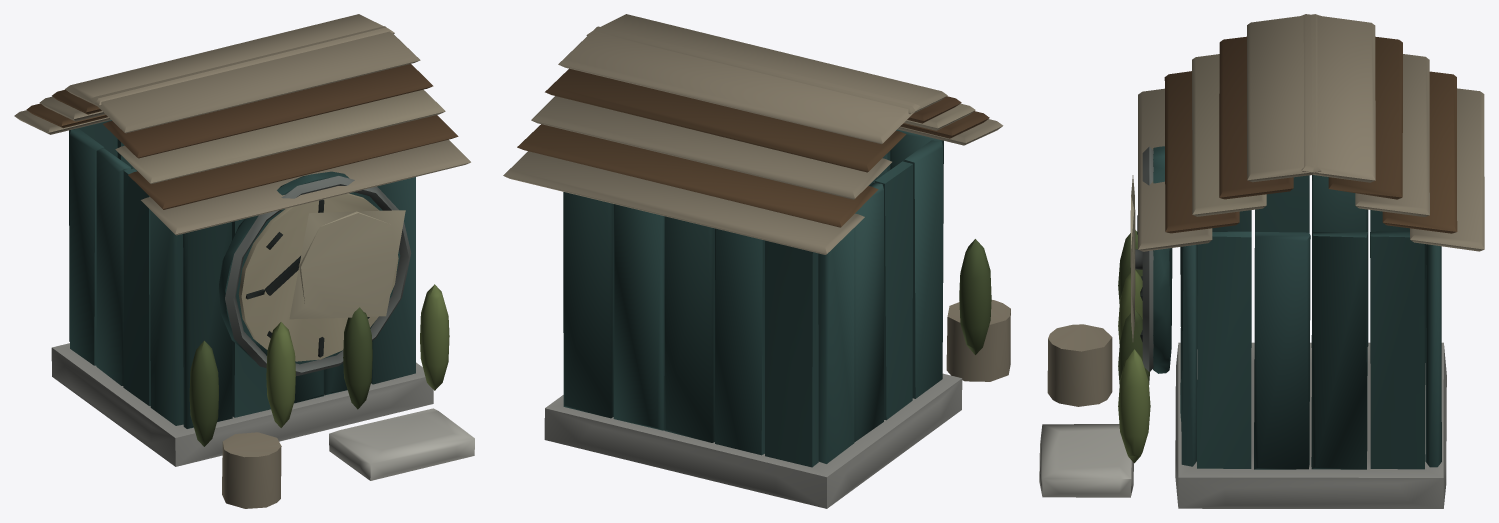
File: gauge_dial_shed_c_lod1.glb
The picture shows the model from 3 angles, left to right: view 1: azimuth 30°, elevation 25°; view 2: azimuth 150°, elevation 25°; view 3: azimuth 270°, elevation 25°; orthographic projection. The views are drawn at different scales.
Parts seen in each view (by area): view 1: Surface.001; view 2: Surface.001; view 3: Surface.001.
Part boxes in pixels (<box>): Surface.001: <box>14,14,474,508</box>; Surface.001: <box>503,14,1010,508</box>; Surface.001: <box>1039,14,1484,508</box>.
Bounding box in the file's own units: 2.71 × 2.88 × 3.28.
